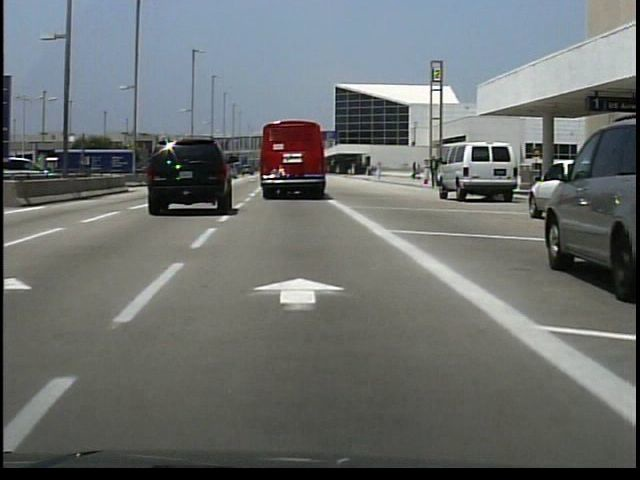person: (428, 156, 440, 192)
